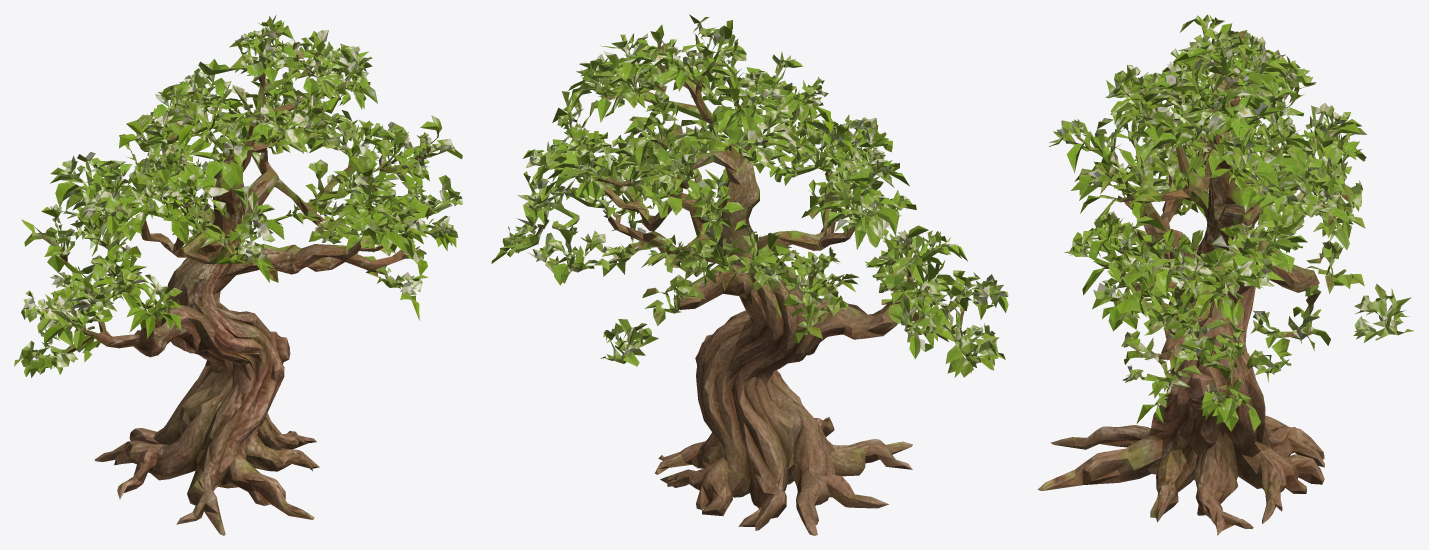
Rendered from orchard_tree.glb.
3 views of the same model, side by side, from view 1: azimuth 30°, elevation 25°; view 2: azimuth 150°, elevation 25°; view 3: azimuth 270°, elevation 25° (orthographic). The views are drawn at different scales.
Parts seen in each view (by area): view 1: Mesh_0; view 2: Mesh_0; view 3: Mesh_0.
Part boxes in pixels (box(x1,y1,x2,y2)): Mesh_0: box(14, 15, 462, 535); Mesh_0: box(491, 14, 1008, 535); Mesh_0: box(1037, 14, 1413, 535).
Bounding box in the file's own units: 1.84 × 1.64 × 1.15.
1 material, 1 textured.
